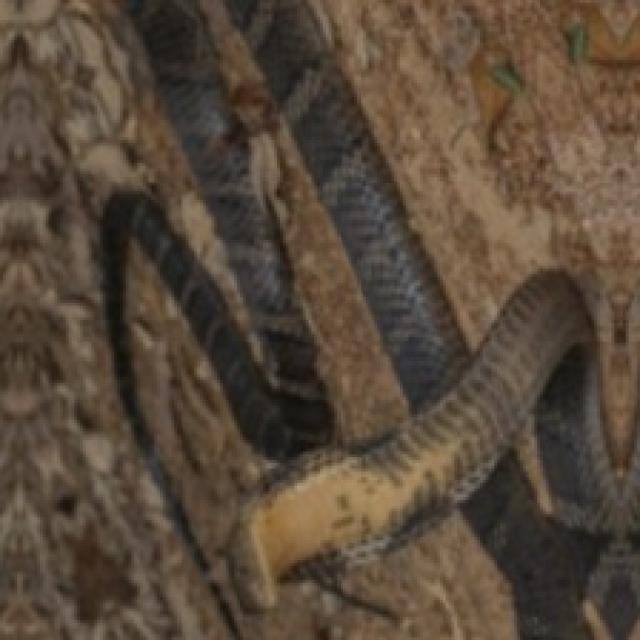king cobra: (123, 237, 586, 606)
